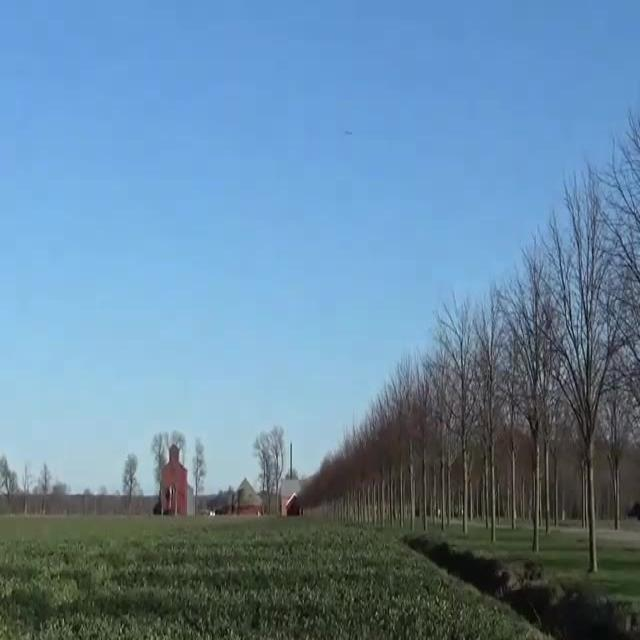bird: (340, 130, 357, 136)
